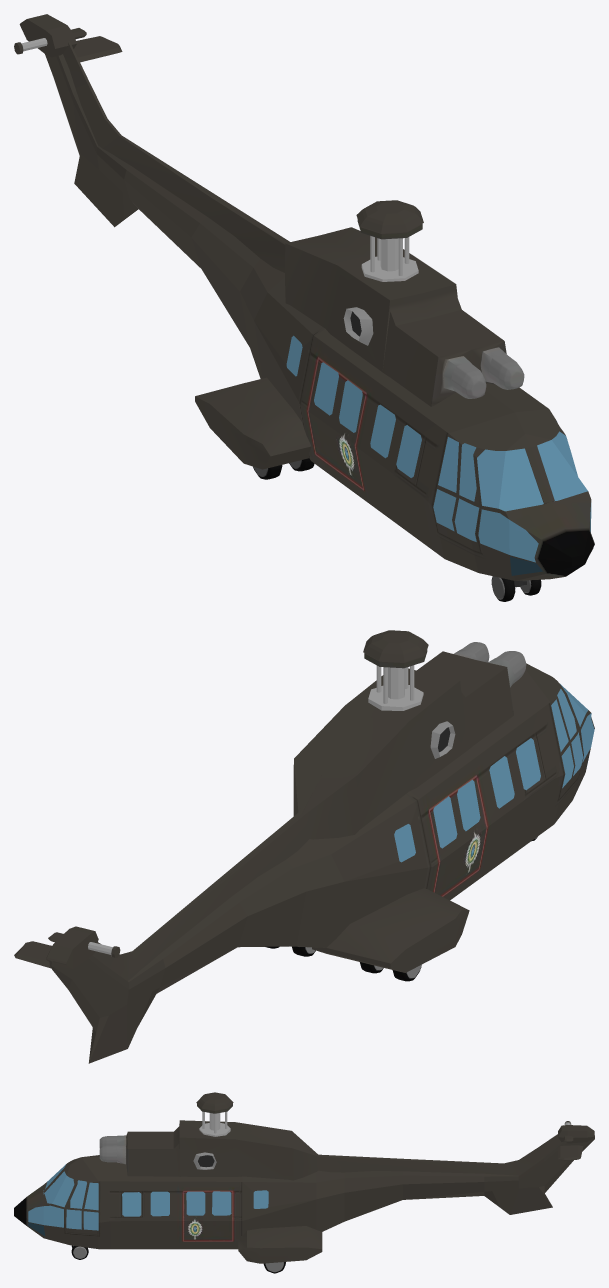
3 views of the same model, one above another, from view 1: azimuth 30°, elevation 25°; view 2: azimuth 150°, elevation 25°; view 3: azimuth 270°, elevation 25° (orthographic). The views are drawn at different scales.
Visible parts, largest first — view 1: Object_10, Object_9, Object_6; view 2: Object_10, Object_9, Object_6; view 3: Object_10, Object_9, Object_6.
Part boxes in pixels (box(x1,y1,x2,y2)): Object_10: box(14, 14, 594, 580); Object_9: box(63, 41, 524, 469); Object_6: box(286, 335, 591, 562); Object_10: box(14, 630, 594, 1063); Object_9: box(93, 642, 526, 980); Object_6: box(394, 684, 594, 862); Object_10: box(14, 1092, 594, 1249); Object_9: box(99, 1120, 560, 1263); Object_6: box(28, 1164, 268, 1230).
Size of the model in its own units: 1.2 by 1.64 by 5.43.
Materials: 3 (3 with a texture image).
